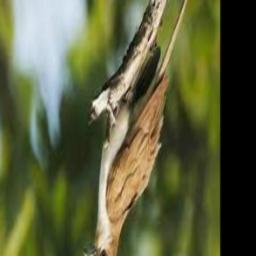Cuckoo: (83, 0, 198, 256)
